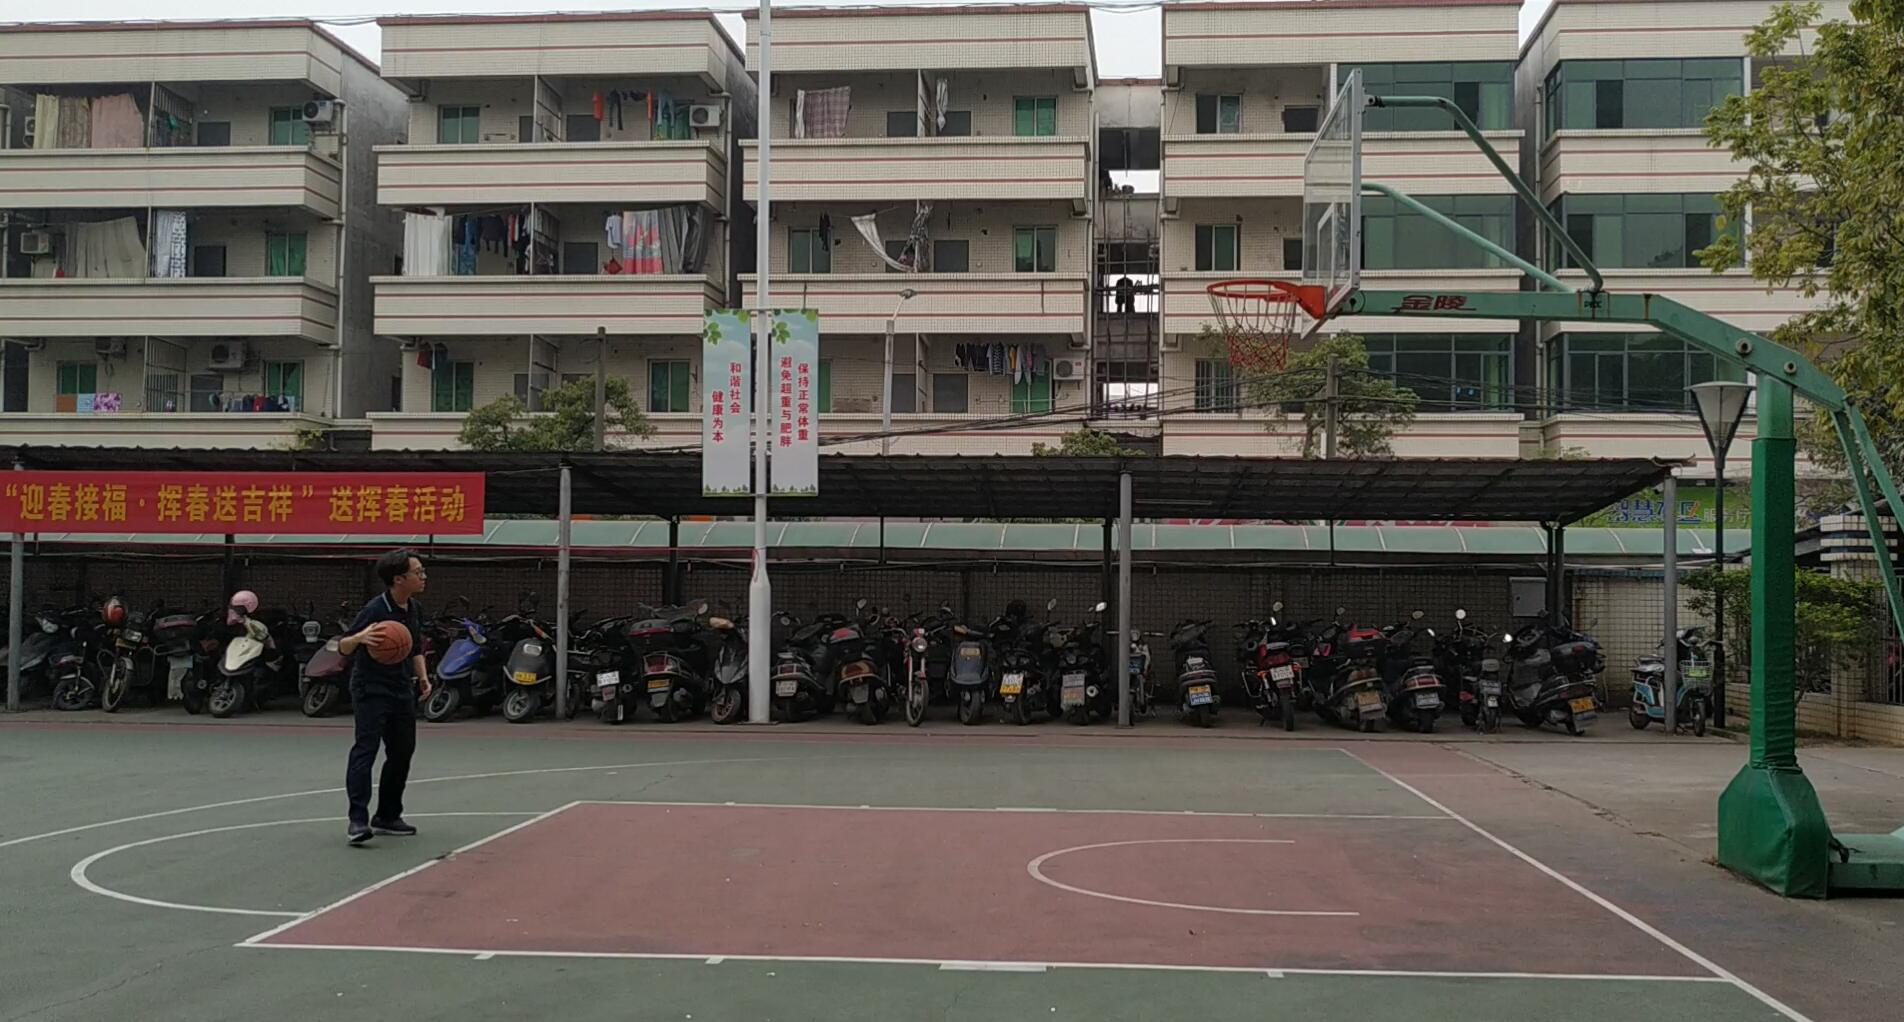basketball: (365, 620, 421, 673)
